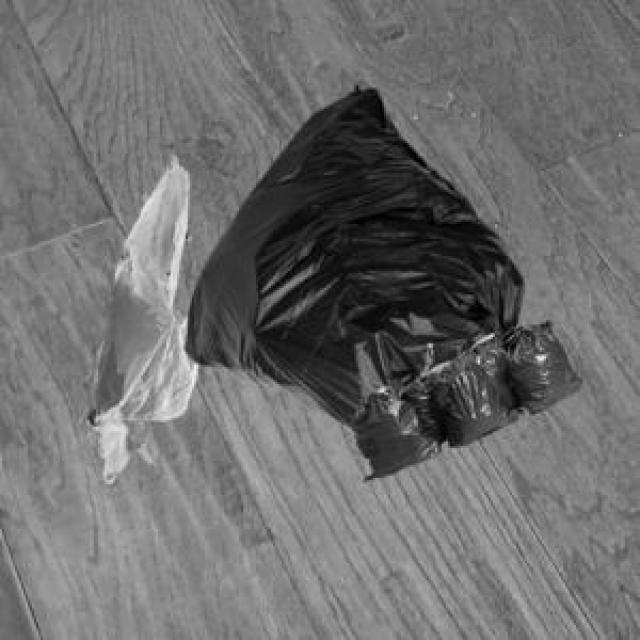miscellaneous trash: (181, 81, 521, 425), (350, 320, 580, 476)
